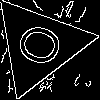O: (14, 20, 74, 73)
